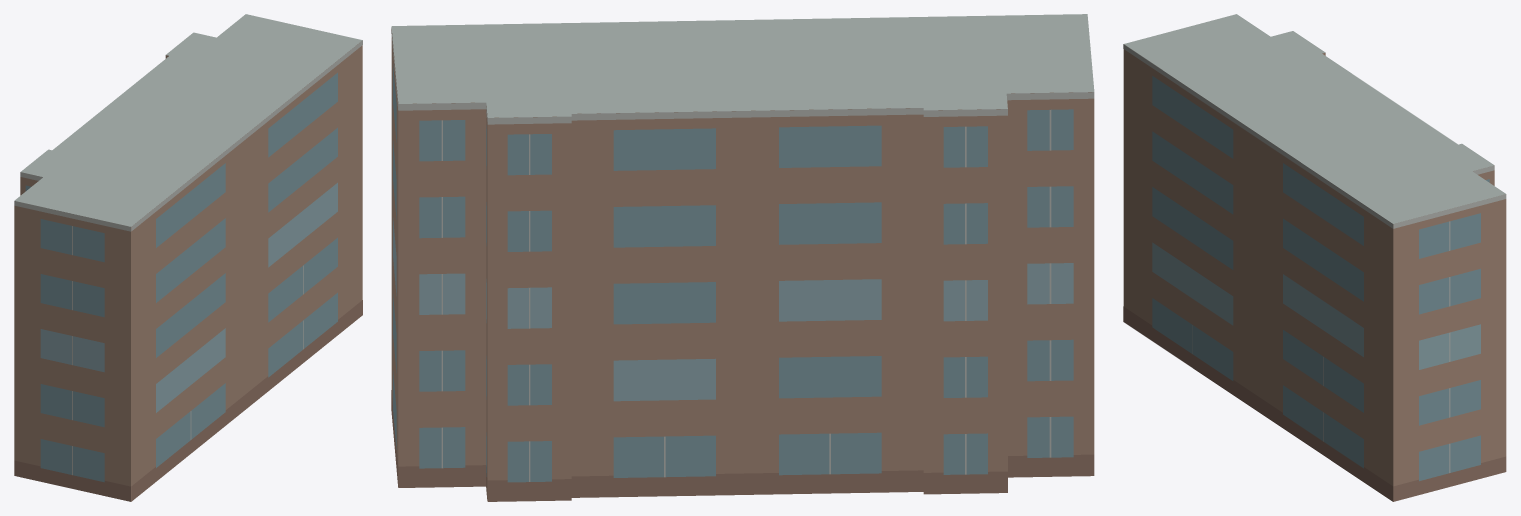
Rendered from survey-upis-32597473.glb.
3 views of the same model, side by side, from view 1: azimuth 30°, elevation 25°; view 2: azimuth 150°, elevation 25°; view 3: azimuth 270°, elevation 25° (orthographic). The views are drawn at different scales.
Visible parts, largest first — view 1: survey-upis-32597473.tmp; view 2: survey-upis-32597473.tmp; view 3: survey-upis-32597473.tmp.
Part boxes in pixels (x1,y1,x2,y2): survey-upis-32597473.tmp: [14, 14, 362, 501]; survey-upis-32597473.tmp: [391, 14, 1094, 501]; survey-upis-32597473.tmp: [1123, 14, 1506, 501].
Size of the model in its own units: 22.66 by 13.98 by 17.46.
